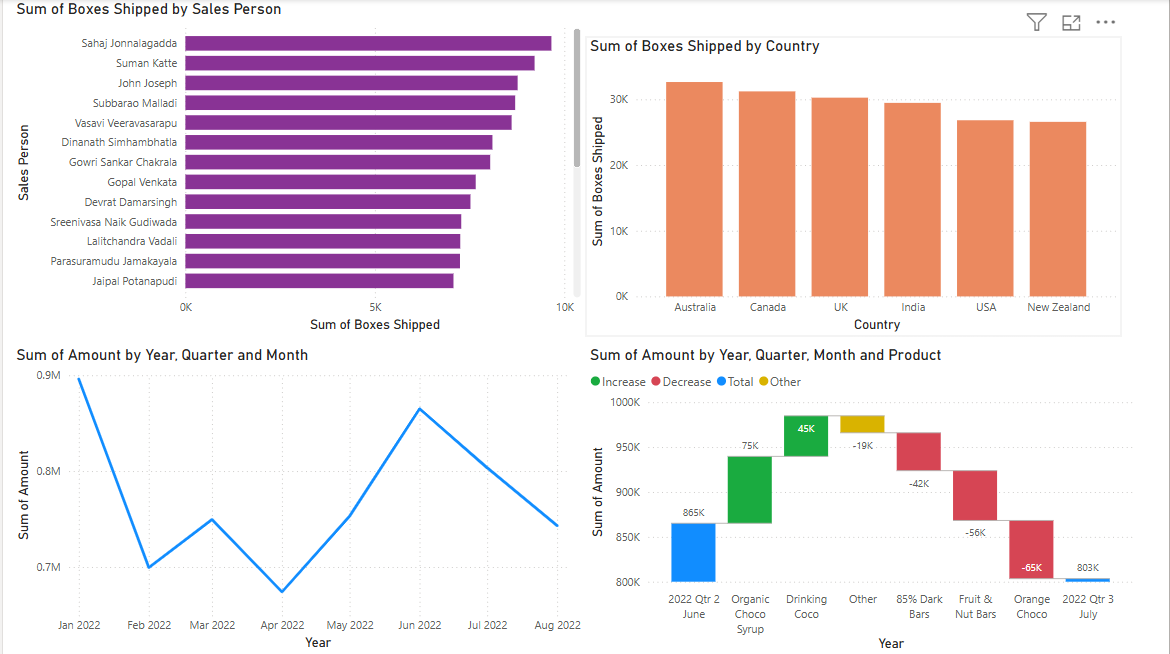

What the dashboard file says about the page in this screenshot:
{"tool":"powerbi","page":{"name":"Page 1","canvas":[1280,720],"ordinal":0},"visuals":[{"type":"barChart","fields":{"Category":["data.Sales Person"],"Y":["data.Boxes Shipped"]},"box":[9.6,0,629.8,370.5],"z":0},{"type":"columnChart","fields":{"Category":["data.Country"],"Y":["data.Boxes Shipped"]},"box":[639.5,41.2,588.7,329.3],"z":1},{"type":"lineChart","fields":{"Y":["data.Amount"],"Category":["data.Date.Variation.Date Hierarchy.Year","data.Date.Variation.Date Hierarchy.Quarter","data.Date.Variation.Date Hierarchy.Month","data.Date.Variation.Date Hierarchy.Day"]},"box":[10,380,630,340],"z":2},{"type":"waterfallChart","fields":{"Category":["data.Date.Variation.Date Hierarchy.Year","data.Date.Variation.Date Hierarchy.Quarter","data.Date.Variation.Date Hierarchy.Month"],"Breakdown":["data.Product"],"Y":["data.Amount"]},"box":[639.5,380.1,606.5,340.3],"z":3}]}

Visuals, with their boxes in screenshot pixels (x1, y1, x2, y2), scaled from the page's 1280x720 canvas onto the 1170x654 screenshot:
barChart - data.Sales Person x data.Boxes Shipped: 9,0,584,337
columnChart - data.Country x data.Boxes Shipped: 585,37,1123,337
lineChart - data.Amount x data.Date.Variation.Date Hierarchy.Year: 9,345,585,653
waterfallChart - data.Date.Variation.Date Hierarchy.Year x data.Date.Variation.Date Hierarchy.Quarter: 585,345,1139,653
